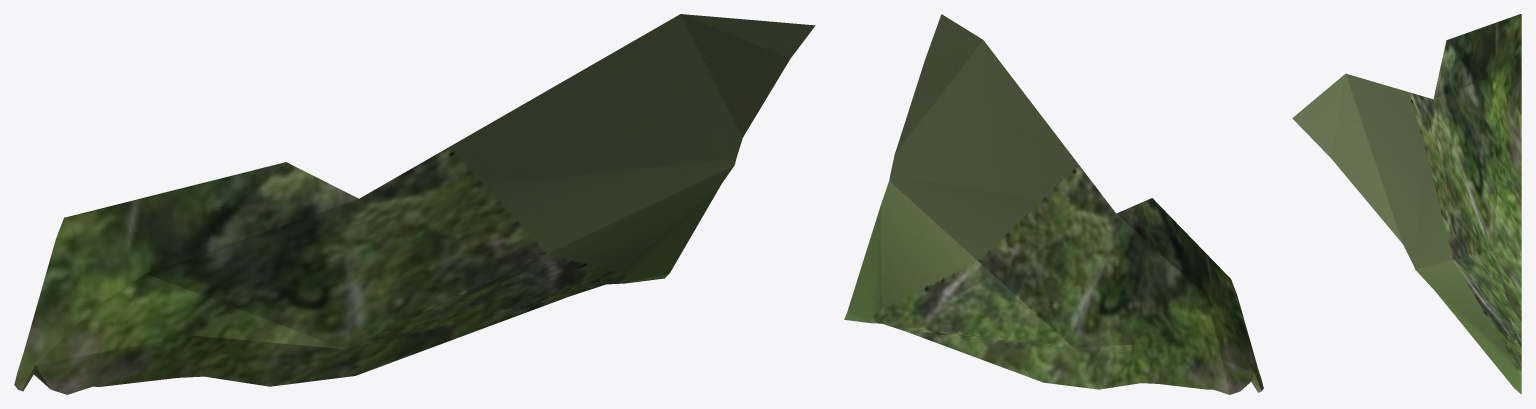
3 renders of one model, left to right at view 1: azimuth 30°, elevation 25°; view 2: azimuth 150°, elevation 25°; view 3: azimuth 270°, elevation 25°, orthographic. The views are drawn at different scales.
Size of the model in its own units: 22.42 by 13.03 by 9.01.
1 material, 1 textured.
